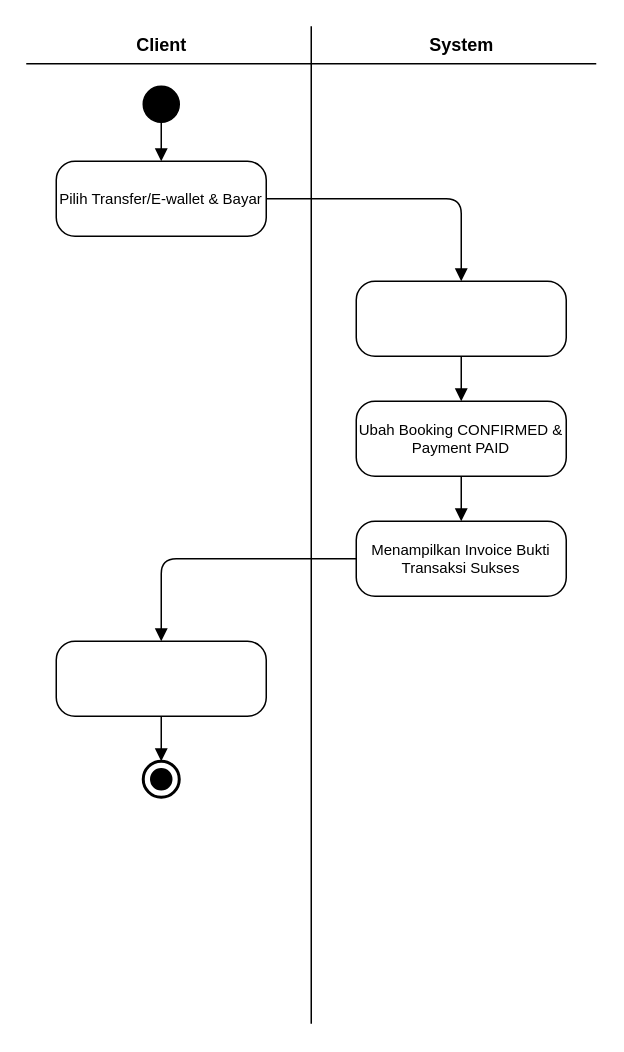
Image size: 624x1052. Some labels were removed from this diagram. Each missing label, with the box of its shape:
Menerima Nota Bukti Pembayaran: (55, 640, 266, 716)
Menerima Webhook Callback dari Midtrans: (355, 280, 566, 356)
